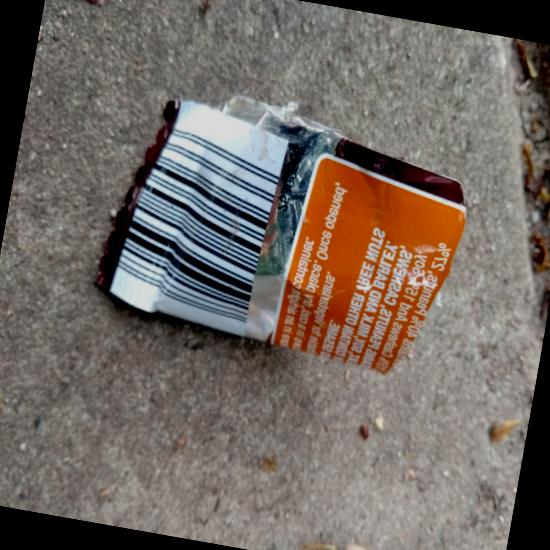Drink can: (402, 517, 453, 550), (425, 85, 450, 115), (430, 24, 447, 52), (417, 26, 432, 44)
Foam cup: (245, 412, 284, 450), (213, 396, 244, 442)
Pop tab: (426, 107, 431, 113)
Unlabeled litter: (344, 88, 356, 99)
